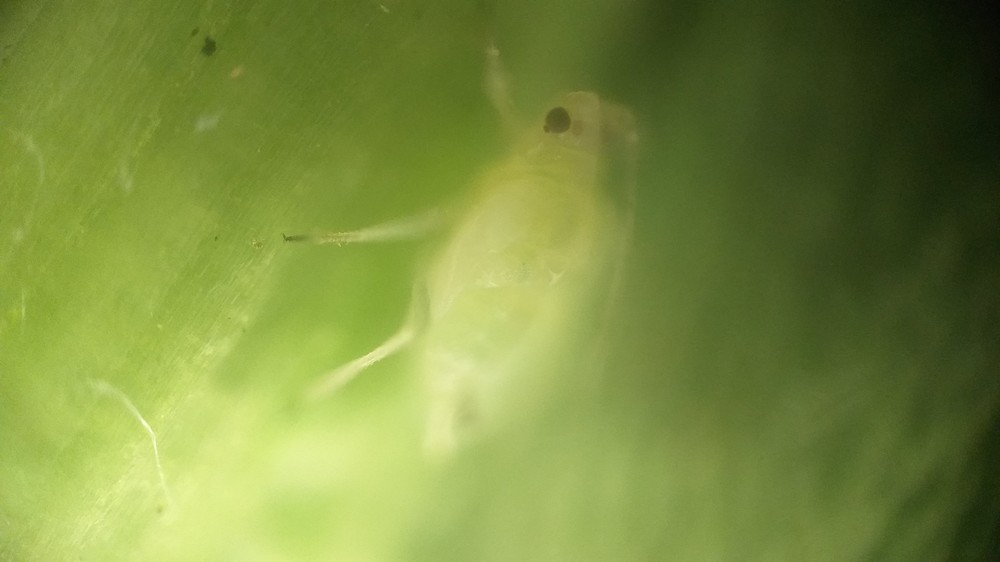Pulgon: (277, 29, 681, 536)
